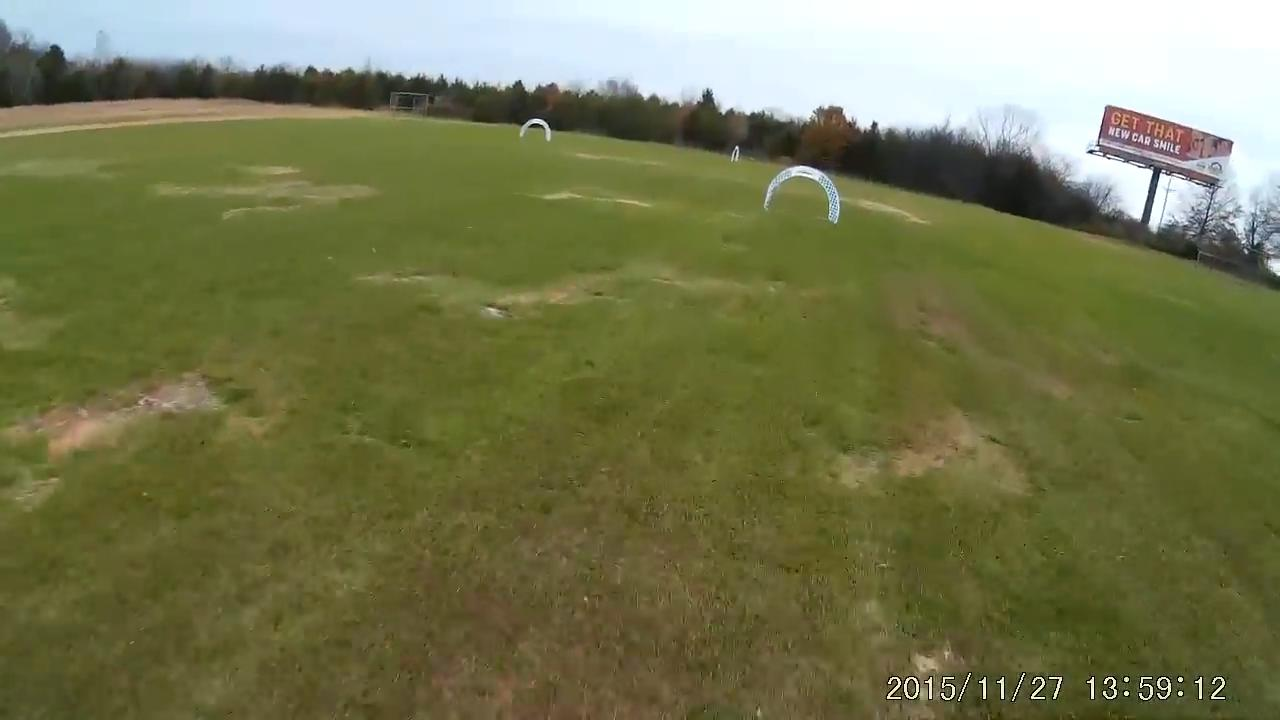gate: (763, 163, 842, 225)
